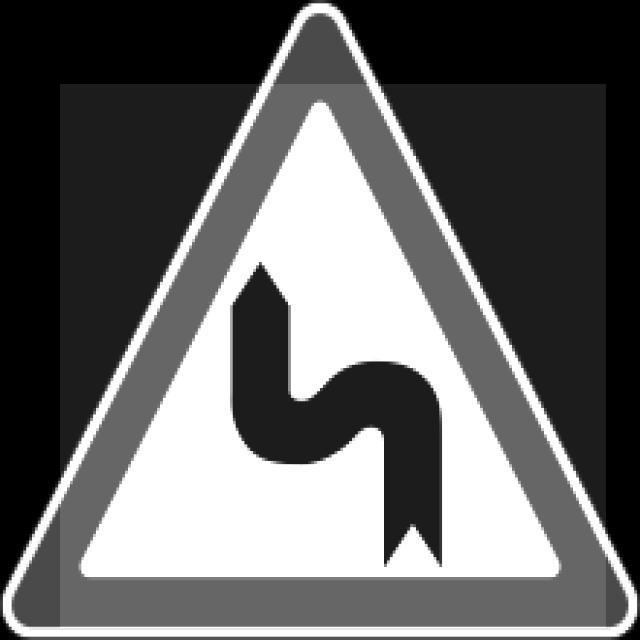left reverse bend: (53, 27, 609, 621)
